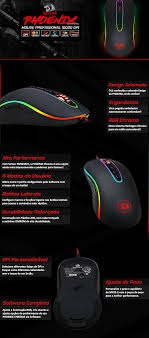mouse: (49, 249, 106, 338), (81, 157, 144, 237), (0, 89, 86, 131), (101, 0, 148, 61)
